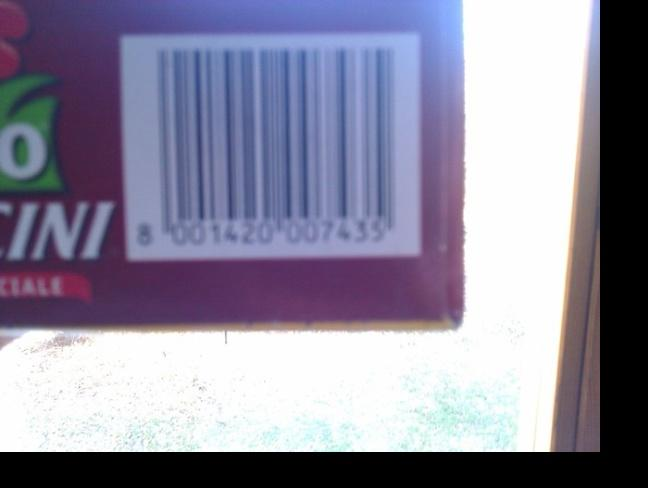Barcode: (122, 34, 419, 255)
